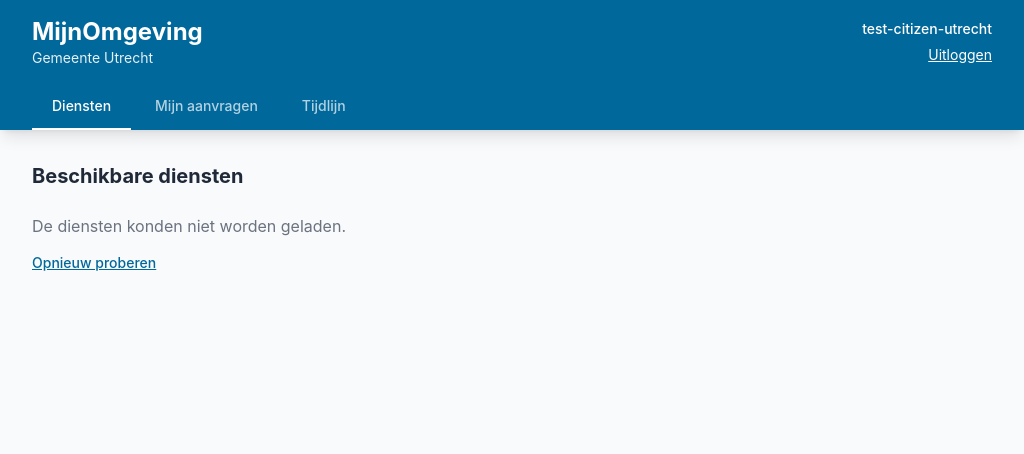
Scenario: Dashboard › shows an error with a retry when the services cannot be loaded (refused), never every card
The image size is (1024, 454).
Expected: the text "De diensten konden niet worden geladen." is shown, 32,216 -> 346,236
Expected: the text "Zorgtoeslag" is not shown
Step 1. Click the button "Opnieuw proberen" → coordinates (94, 263), box 32,253 -> 156,273
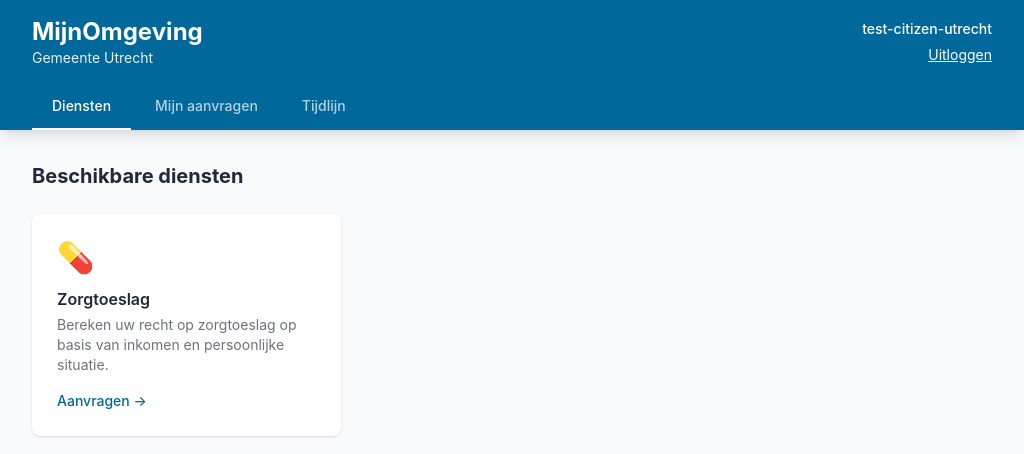
Now the heading "Zorgtoeslag" is shown, box 57,289 -> 150,309
Now the text "De diensten konden niet worden geladen." is gone
